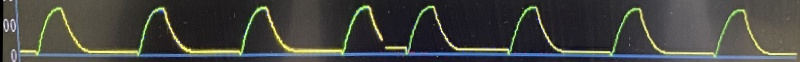normal_volume: (14, 2, 800, 62)
